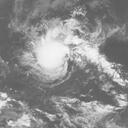cyclone: (24, 28, 71, 82)
